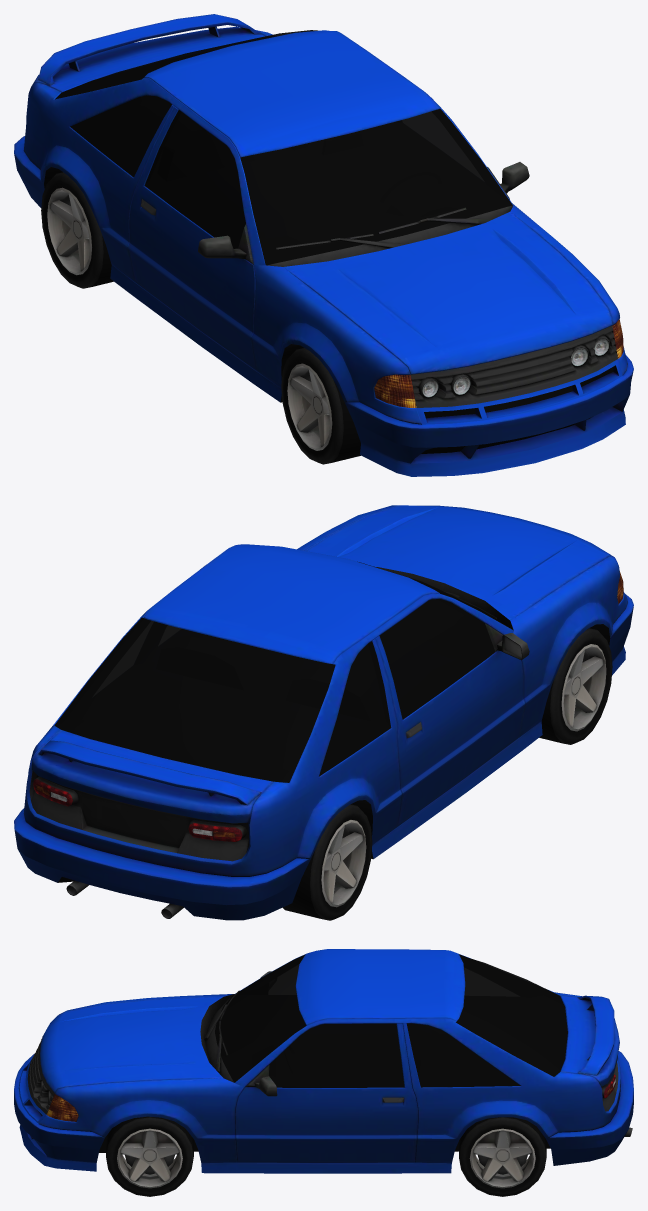
File: coupe.glb
3 renders of one model, top to bottom at view 1: azimuth 30°, elevation 25°; view 2: azimuth 150°, elevation 25°; view 3: azimuth 270°, elevation 25°, orthographic. The views are drawn at different scales.
Parts seen in each view (by area): view 1: body, wheel_fr, wheel_rr; view 2: body, wheel_rr, wheel_fr; view 3: body, wheel_fl, wheel_rl.
Part boxes in pixels (bbox=[...]): body: bbox=[14, 14, 633, 476]; wheel_fr: bbox=[281, 348, 360, 464]; wheel_rr: bbox=[41, 172, 113, 288]; body: bbox=[14, 505, 633, 920]; wheel_rr: bbox=[282, 804, 372, 920]; wheel_fr: bbox=[539, 628, 612, 744]; body: bbox=[14, 949, 633, 1173]; wheel_fl: bbox=[106, 1116, 193, 1196]; wheel_rl: bbox=[459, 1117, 546, 1196].
Size of the model in its own units: 2 by 1.36 by 4.5.
Materials: 4 (3 with a texture image).
